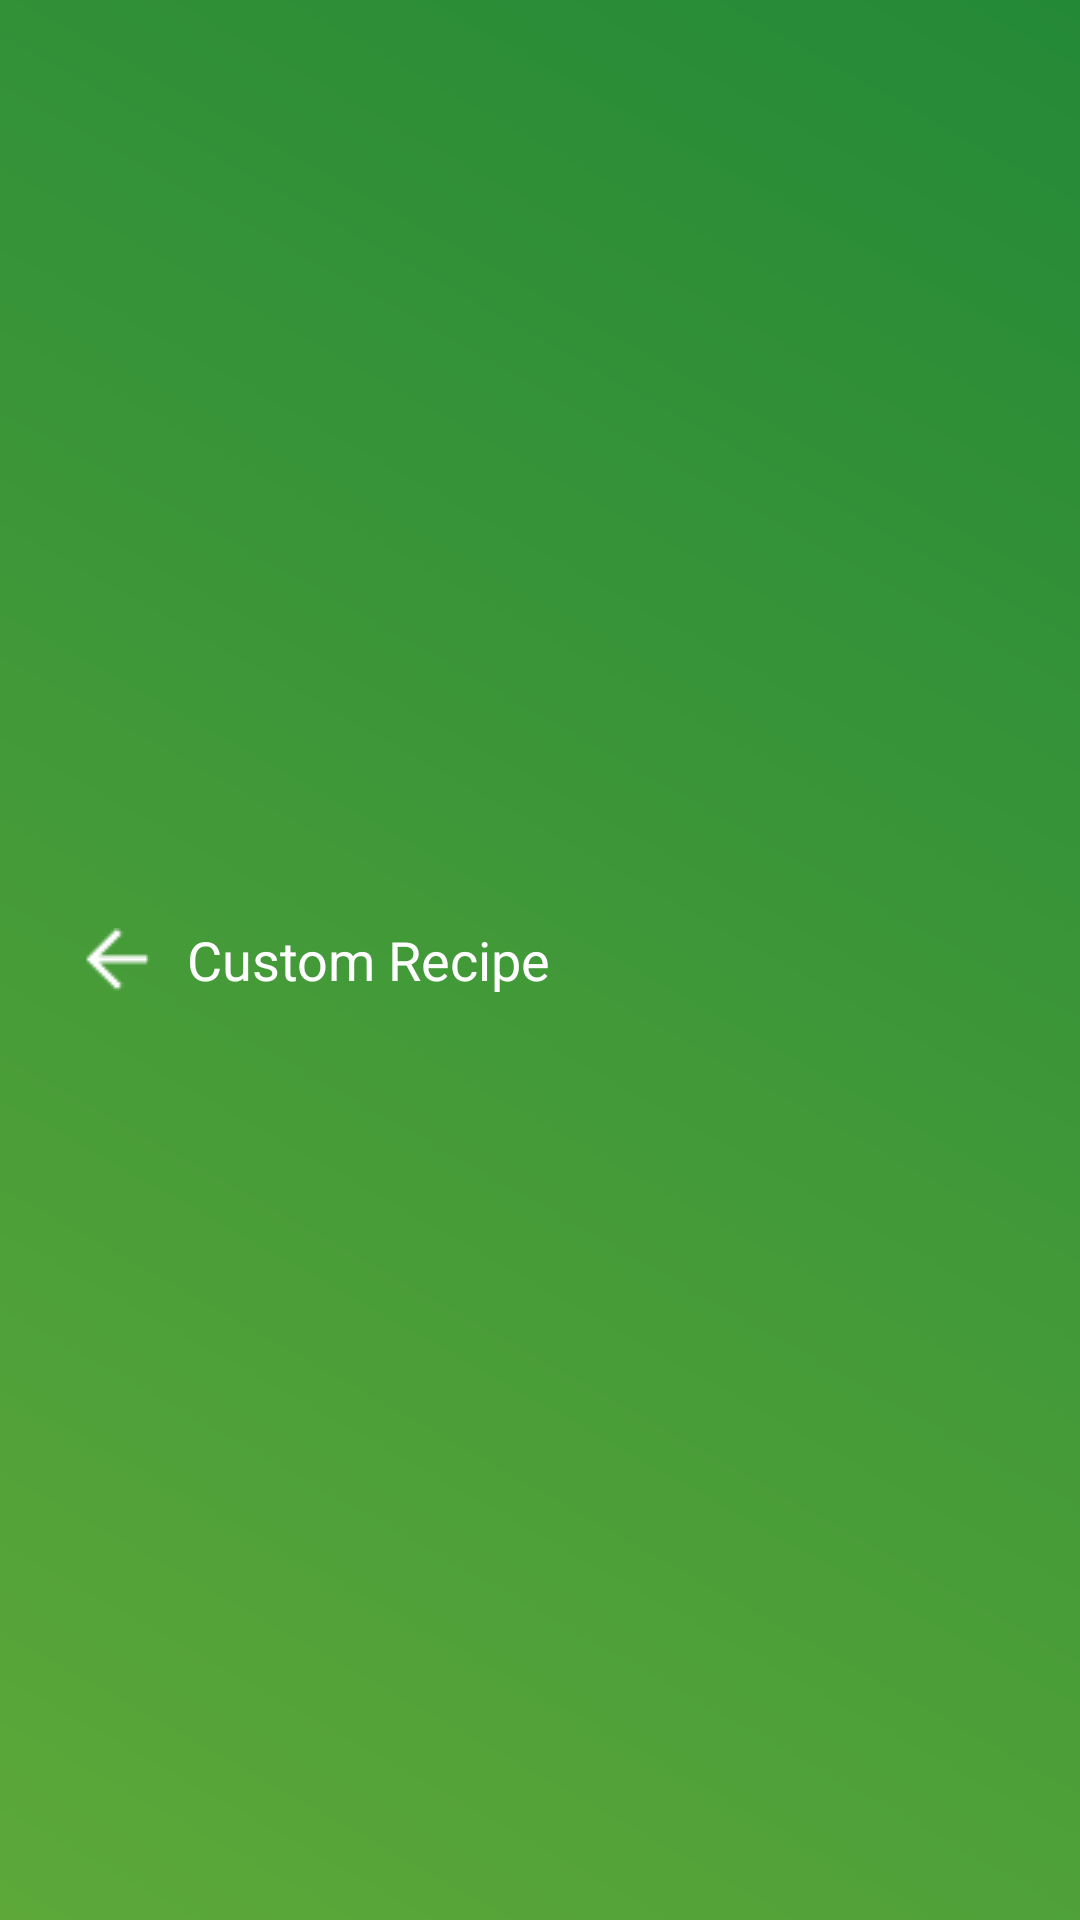

Screen size 1080×1920. Icon name, then its box in pixels as (x1, y1, x2, y2):
back: (86, 928, 150, 991)
